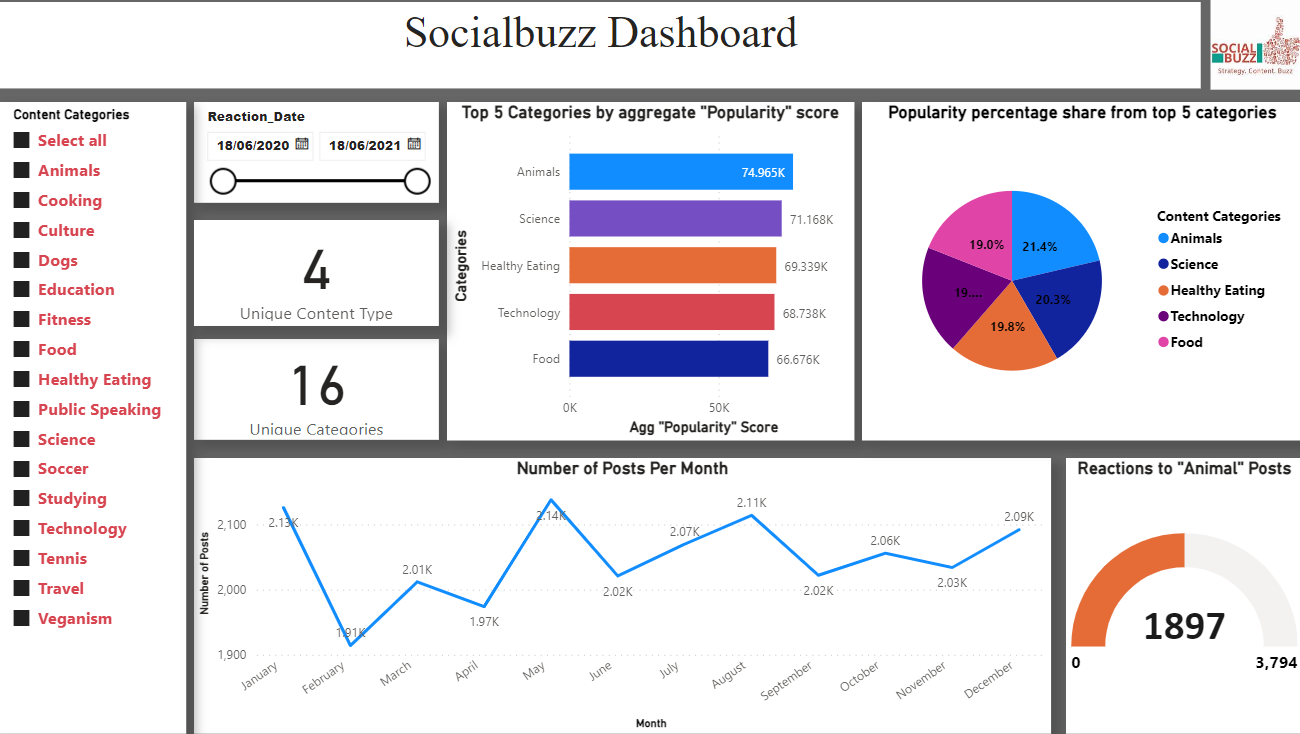

What the dashboard file says about the page in this screenshot:
{"tool":"powerbi","page":{"name":"Socialbuzz","canvas":[1280,720],"ordinal":0},"visuals":[{"type":"slicer","fields":{"Values":["Reactions.Reaction_Date"]},"box":[188.5,105,238.1,98.2],"z":0},{"type":"card","fields":{"Values":["Reactions.Dist_Categories"]},"box":[188.5,335.3,238.1,98.2],"z":1000},{"type":"clusteredBarChart","title":"Top 5 Categories by aggregate \"Popularity\" score","fields":{"Category":["Reactions.Content.Content_Category"],"Y":["Sum(Reactions.ReactionTypes.Reaction_Score)"]},"box":[434.4,105,395.6,328.5],"z":2000},{"type":"lineChart","title":"Number of Posts Per Month","fields":{"Category":["Reactions.Reaction_Date.Variation.Date Hierarchy.Month"],"Y":["CountNonNull(Reactions.Content.Content_Category)"]},"box":[188.5,451,832.9,268.2],"z":3000},{"type":"pieChart","title":"Popularity percentage share from top 5 categories","fields":{"Category":["Reactions.Content.Content_Category"],"Y":["Sum(Reactions.ReactionTypes.Reaction_Score)"]},"box":[837.8,105,428.6,328.5],"z":4000},{"type":"gauge","title":"Reactions to \"Animal\" Posts","fields":{"Y":["CountNonNull(Reactions.ReactionTypes.Reaction_Score)"]},"box":[1036.1,451,230.3,268.2],"z":5000},{"type":"slicer","fields":{"Values":["Reactions.Content.Content_Category"]},"box":[0,105,180.8,614.2],"z":6000},{"type":"card","fields":{"Values":["Count(Reactions.Content.Content_Type)"]},"box":[188.5,219.7,238.1,103],"z":6001},{"type":"textbox","box":[0,7.8,1167.3,83.6],"z":6002},{"type":"image","box":[1159.4,0,120.6,98.1],"z":6003}]}

Visuals, with their boxes in screenshot pixels (x1, y1, x2, y2), scaled from the page's 1280x720 canvas onto the 1300x734 screenshot:
slicer - Reactions.Reaction_Date: <box>191,107,433,207</box>
card - Reactions.Dist_Categories: <box>191,342,433,442</box>
"Top 5 Categories by aggregate "Popularity" score" clusteredBarChart: <box>441,107,843,442</box>
"Number of Posts Per Month" lineChart: <box>191,460,1037,733</box>
"Popularity percentage share from top 5 categories" pieChart: <box>851,107,1286,442</box>
"Reactions to "Animal" Posts" gauge: <box>1052,460,1286,733</box>
slicer - Reactions.Content.Content_Category: <box>0,107,184,733</box>
card - Count(Reactions.Content.Content_Type): <box>191,224,433,329</box>
textbox: <box>0,8,1186,93</box>
image: <box>1178,0,1299,100</box>
